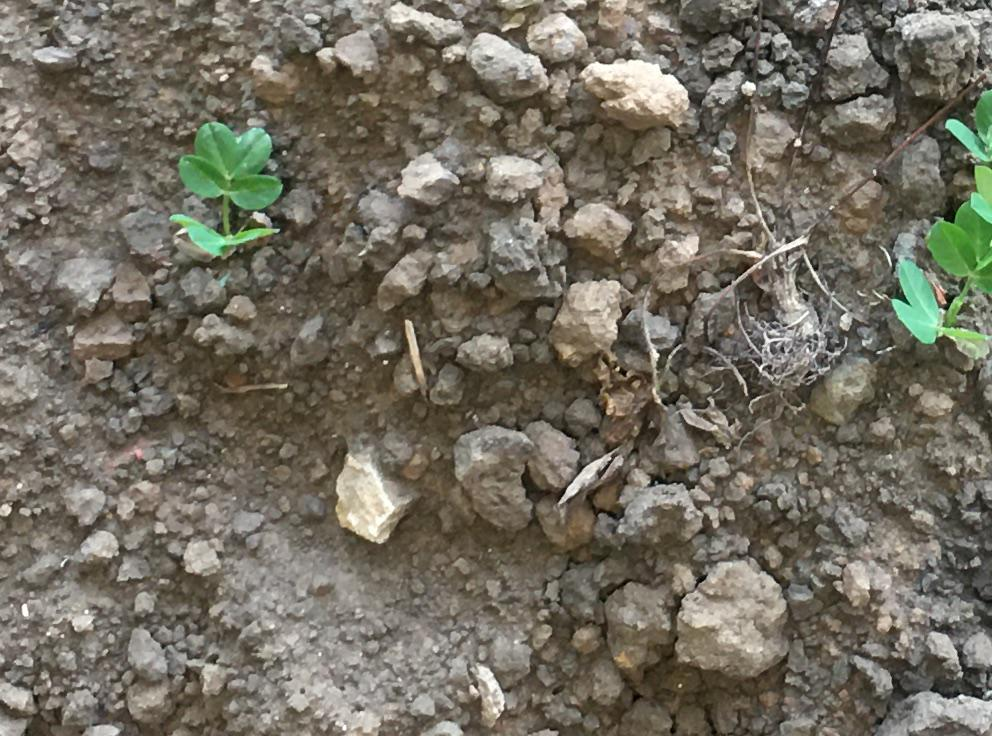block: (679, 558, 784, 684), (882, 6, 983, 106), (449, 423, 537, 536), (807, 33, 895, 142), (580, 49, 693, 132), (330, 447, 414, 547), (467, 27, 550, 108), (600, 582, 672, 675), (546, 275, 620, 363), (483, 217, 561, 300)
